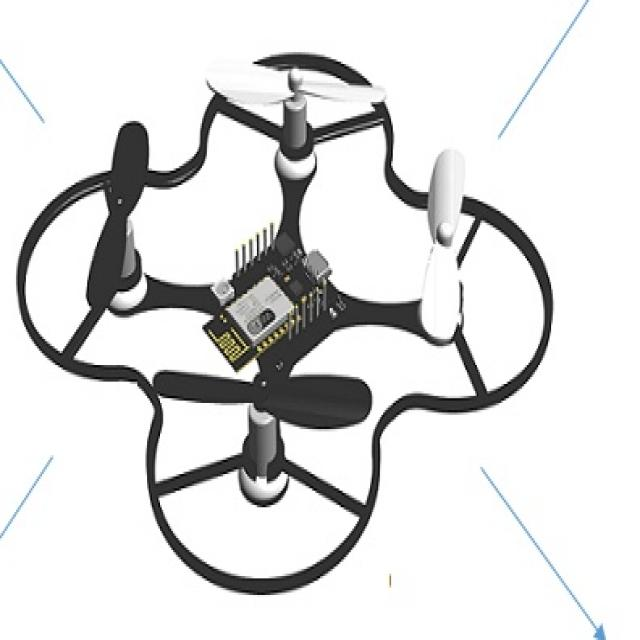drone: (1, 12, 566, 604)
